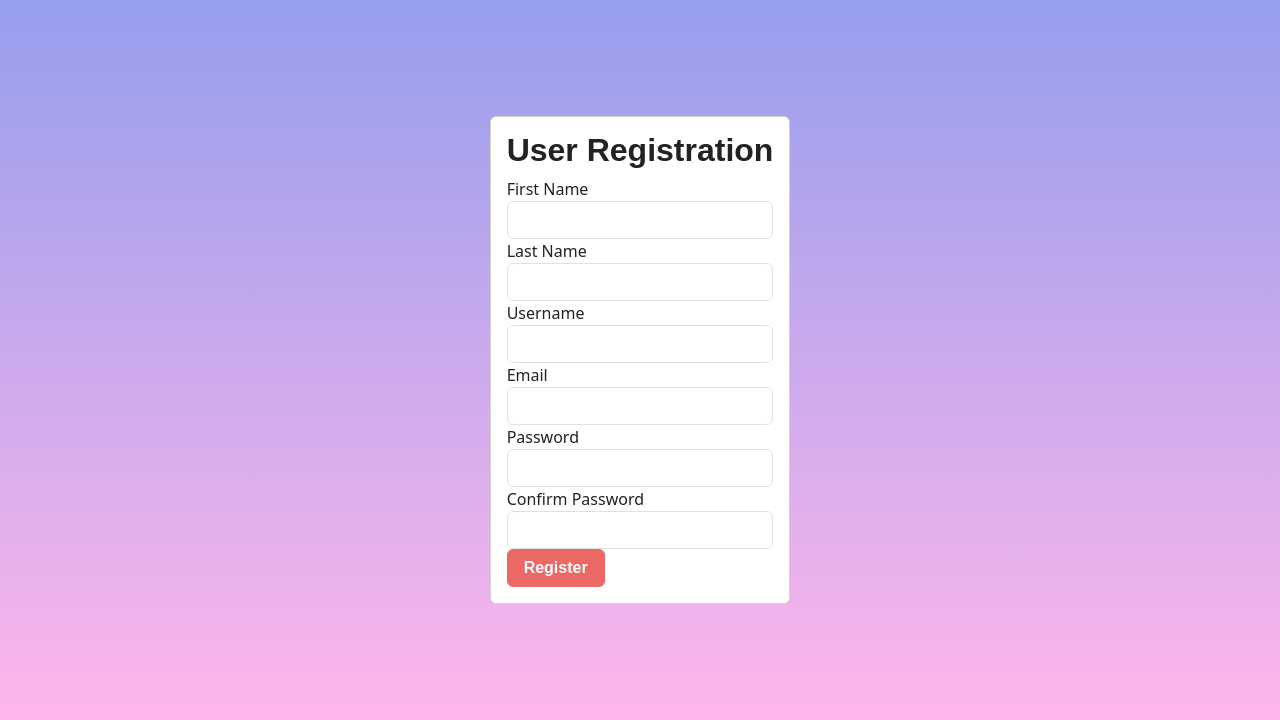
Test: UserRegistration › displays validation errors for empty fields
Click the button "Register".
click(556, 568)  # box [507,549,605,587]
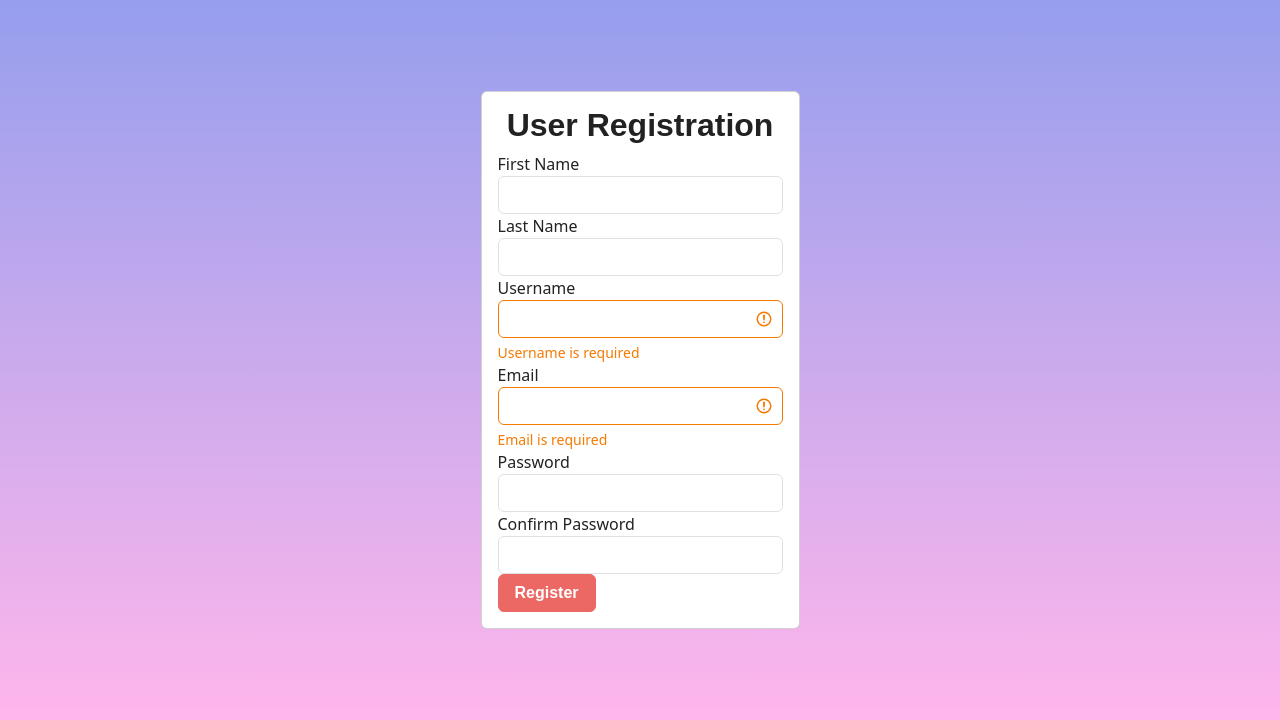
Check: the text "Username is required" is shown, box [498,343,640,362]
Check: the text "Email is required" is shown, box [498,430,607,449]
